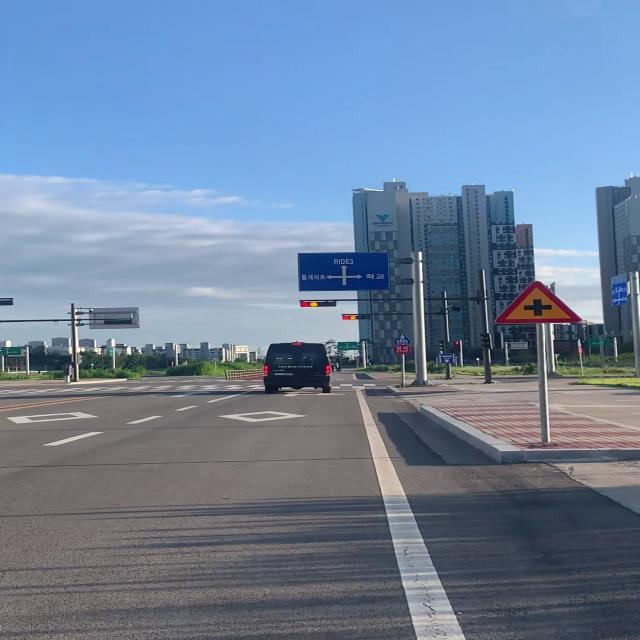yellow_light: (300, 302, 336, 306), (342, 315, 370, 320)
